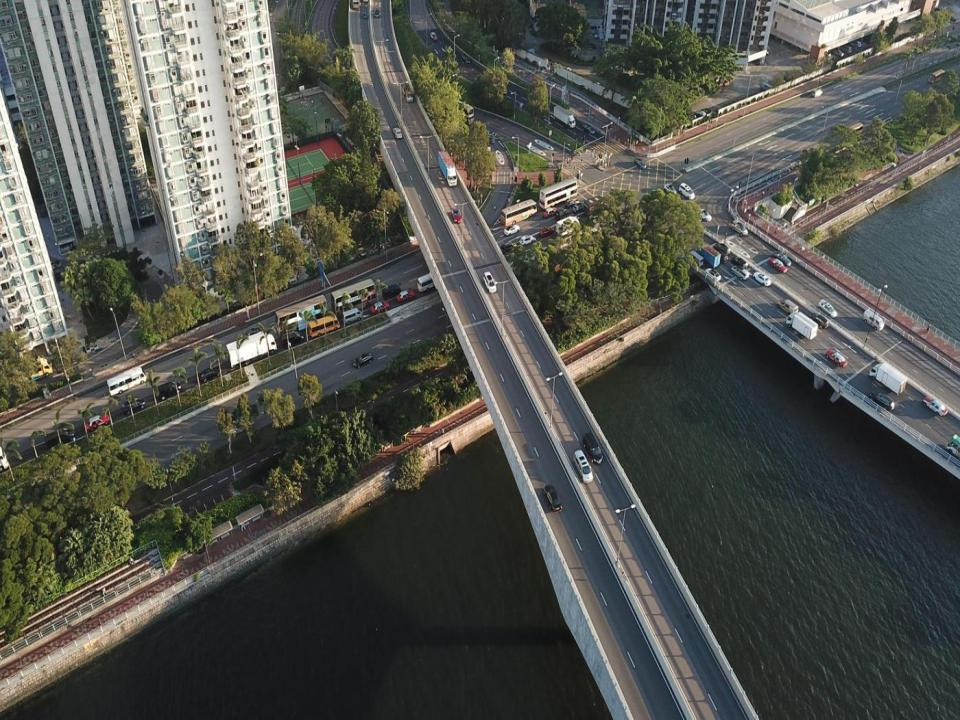bus: (274, 294, 328, 334), (330, 277, 377, 316), (538, 177, 578, 209), (105, 367, 147, 396), (500, 198, 538, 226), (308, 314, 340, 339), (460, 102, 476, 126), (417, 273, 435, 293), (845, 122, 862, 141), (928, 69, 945, 84), (760, 82, 773, 92), (352, 0, 360, 10)
car: (572, 449, 593, 484), (543, 483, 562, 514), (868, 390, 894, 412), (922, 395, 948, 416), (84, 414, 110, 431), (818, 299, 837, 320), (825, 349, 847, 367), (122, 397, 145, 414), (570, 47, 596, 62), (352, 351, 373, 368), (197, 368, 222, 382), (730, 219, 748, 238), (752, 271, 772, 288), (809, 312, 829, 329), (483, 270, 497, 294), (769, 257, 787, 274), (730, 265, 750, 280), (678, 183, 695, 200), (712, 242, 731, 256), (370, 301, 390, 314), (396, 290, 415, 303), (503, 223, 520, 237), (450, 206, 463, 224), (704, 268, 722, 281), (501, 241, 517, 254), (53, 268, 67, 282), (518, 234, 534, 246), (582, 123, 596, 136), (663, 183, 677, 196), (542, 207, 557, 218), (460, 53, 472, 66), (700, 209, 712, 222), (564, 198, 578, 209), (717, 250, 728, 264), (245, 327, 262, 336), (634, 157, 647, 168), (539, 227, 554, 236), (573, 202, 584, 213), (393, 126, 402, 139), (842, 46, 854, 54), (846, 43, 858, 51), (428, 31, 438, 40), (833, 49, 844, 57), (374, 8, 380, 18), (488, 136, 495, 144), (594, 30, 599, 40), (856, 41, 862, 49), (362, 11, 368, 18)
truck: (226, 331, 277, 368), (869, 362, 908, 396), (785, 310, 818, 340), (438, 149, 458, 187), (25, 356, 53, 381), (698, 244, 721, 270), (553, 105, 576, 130), (555, 216, 580, 236), (584, 196, 603, 214), (401, 82, 414, 103)
van: (583, 430, 603, 464), (44, 428, 75, 448), (153, 381, 182, 401), (862, 308, 884, 332), (342, 306, 364, 325), (281, 331, 305, 348), (944, 433, 960, 458), (684, 250, 704, 268), (776, 298, 798, 314), (382, 284, 401, 298), (811, 87, 823, 98)
